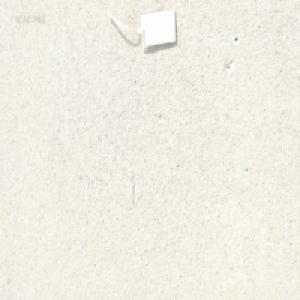LuggageTag: (103, 8, 178, 55)
